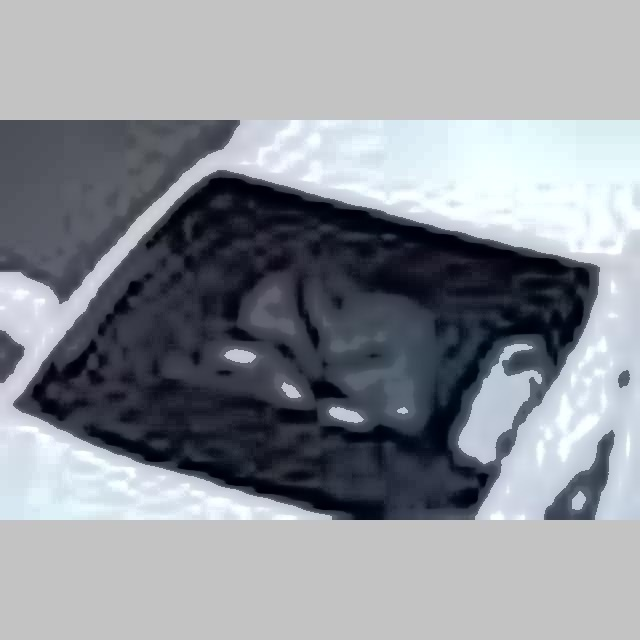pakai: (224, 240, 424, 448)
